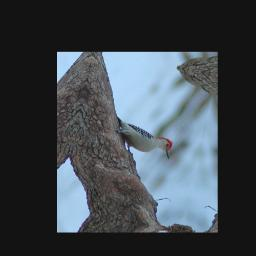Woodpecker: (108, 116, 178, 161)
